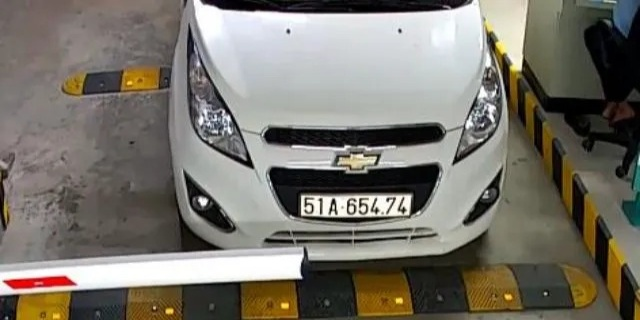bien_so: (302, 192, 411, 219)
